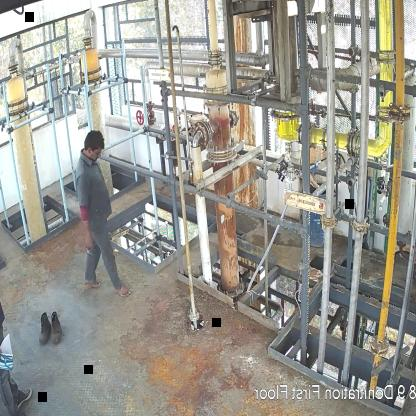no_shoes: (80, 279, 100, 294), (114, 279, 128, 296)
shoes: (49, 309, 65, 345), (37, 312, 50, 344)
